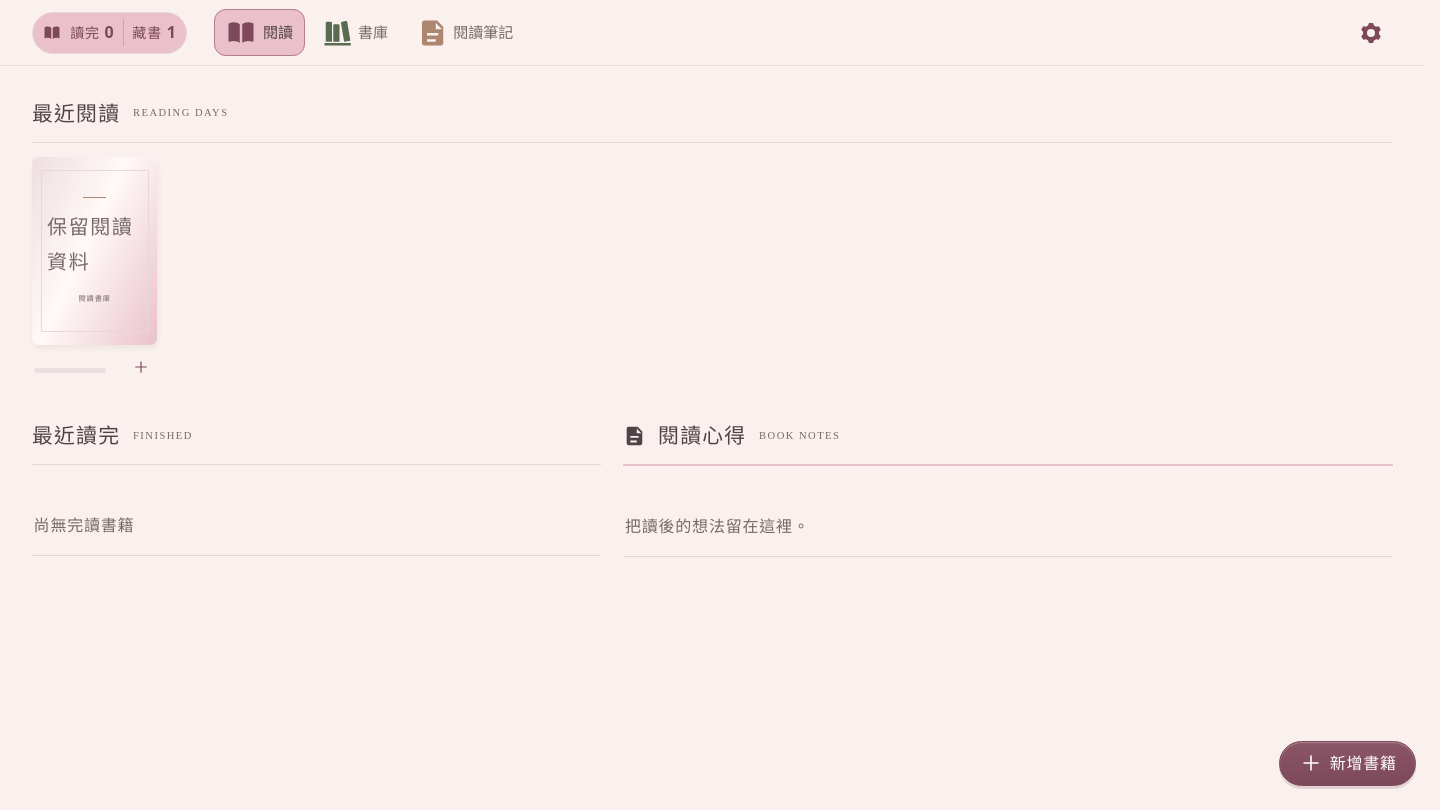
Test: removes statistics and preference navigation without deleting books, records or goals
Expected: the element "最近閱讀" shows "保留閱讀資料", x1=32 y1=157 x2=157 y2=345
Click the button named "管理".
click(1371, 33)  # box x1=1349 y1=11 x2=1393 y2=55
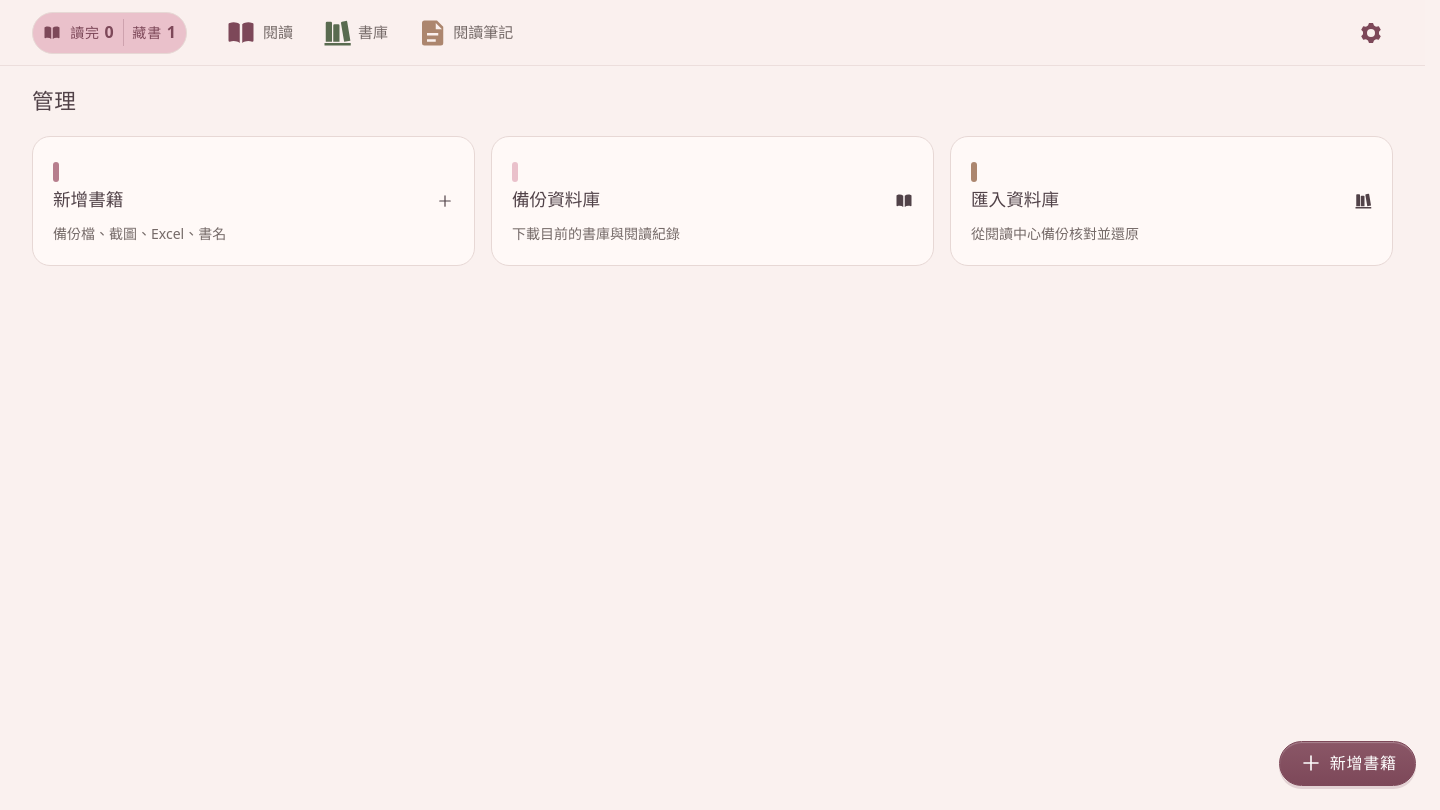
Now the button "備份資料庫 下載目前的書庫與閱讀紀錄" is shown, box x1=491 y1=136 x2=934 y2=266
Now the button "匯入資料庫 從閱讀中心備份核對並還原" is shown, box x1=950 y1=136 x2=1393 y2=266
